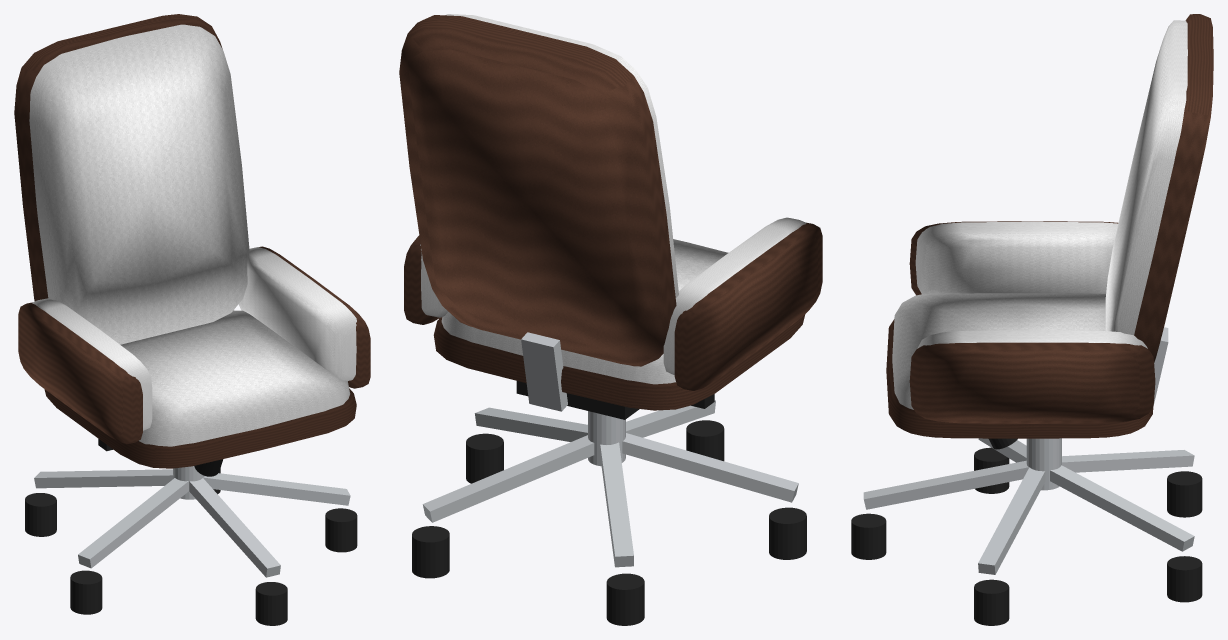
3 renders of one model, left to right at view 1: azimuth 30°, elevation 25°; view 2: azimuth 150°, elevation 25°; view 3: azimuth 270°, elevation 25°, orthographic. The views are drawn at different scales.
Visible parts, largest first — view 1: 3 backrest, 1 seat, 6 armrest_left_shell, 7 armrest_right, 2 seat_shell, 4 backrest_shell, 5 armrest_left, 18 spoke_5, 14 spoke_1, 15 spoke_2, 17 spoke_4, 8 armrest_right_shell (+4 smaller); view 2: 4 backrest_shell, 6 armrest_left_shell, 2 seat_shell, 1 seat, 16 spoke_3, 18 spoke_5, 5 armrest_left, 13 back_bracket, 17 spoke_4, 15 spoke_2, 3 backrest, 22 wheel_4 (+9 smaller); view 3: 8 armrest_right_shell, 5 armrest_left, 3 backrest, 1 seat, 4 backrest_shell, 2 seat_shell, 16 spoke_3, 14 spoke_1, 7 armrest_right, 15 spoke_2, 17 spoke_4, 22 wheel_4 (+8 smaller).
Boxes of the visible parts, left/top/right/bottom form: 3 backrest: left=29, top=24, right=249, bottom=344; 1 seat: left=120, top=310, right=350, bottom=446; 6 armrest_left_shell: left=18, top=302, right=142, bottom=444; 7 armrest_right: left=238, top=247, right=356, bottom=380; 2 seat_shell: left=44, top=388, right=356, bottom=468; 4 backrest_shell: left=14, top=14, right=222, bottom=301; 5 armrest_left: left=32, top=298, right=152, bottom=430; 18 spoke_5: left=78, top=478, right=188, bottom=568; 14 spoke_1: left=189, top=478, right=280, bottom=577; 15 spoke_2: left=203, top=473, right=350, bottom=505; 17 spoke_4: left=34, top=469, right=173, bottom=488; 8 armrest_right_shell: left=259, top=246, right=370, bottom=388; 4 backrest_shell: left=399, top=15, right=676, bottom=366; 6 armrest_left_shell: left=674, top=222, right=822, bottom=390; 2 seat_shell: left=433, top=314, right=805, bottom=410; 1 seat: left=441, top=239, right=728, bottom=384; 16 spoke_3: left=422, top=435, right=594, bottom=522; 18 spoke_5: left=622, top=433, right=798, bottom=502; 5 armrest_left: left=663, top=217, right=806, bottom=374; 13 back_bracket: left=521, top=332, right=567, bottom=411; 17 spoke_4: left=600, top=442, right=633, bottom=567; 15 spoke_2: left=474, top=407, right=587, bottom=441; 3 backrest: left=445, top=14, right=678, bottom=297; 22 wheel_4: left=606, top=573, right=644, bottom=625; 8 armrest_right_shell: left=909, top=342, right=1155, bottom=423; 5 armrest_left: left=915, top=221, right=1117, bottom=294; 3 backrest: left=1105, top=20, right=1187, bottom=335; 1 seat: left=892, top=293, right=1105, bottom=409; 4 backrest_shell: left=1134, top=14, right=1213, bottom=362; 2 seat_shell: left=886, top=319, right=1153, bottom=438; 16 spoke_3: left=1050, top=465, right=1194, bottom=551; 14 spoke_1: left=863, top=460, right=1028, bottom=509; 7 armrest_right: left=917, top=330, right=1147, bottom=348; 15 spoke_2: left=978, top=467, right=1045, bottom=574; 17 spoke_4: left=1062, top=450, right=1194, bottom=472; 22 wheel_4: left=1167, top=471, right=1202, bottom=517.
Bounding box in the file's own units: 0.62 × 1 × 0.65.
Materials: 6 (2 with a texture image).
